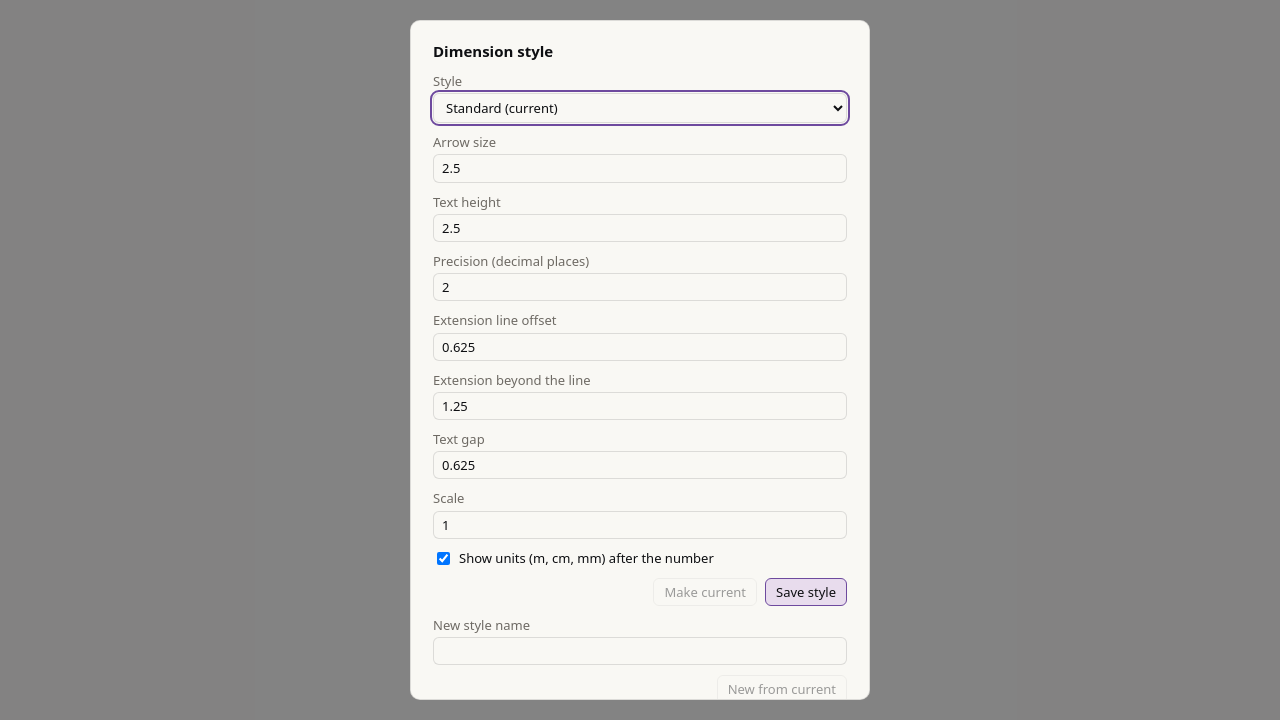
Test: creates a style from the current one, sets the annotation scale, shows errors
In the field labelled "New style name": (640, 651) [433,637,847,665], type "QS-100"
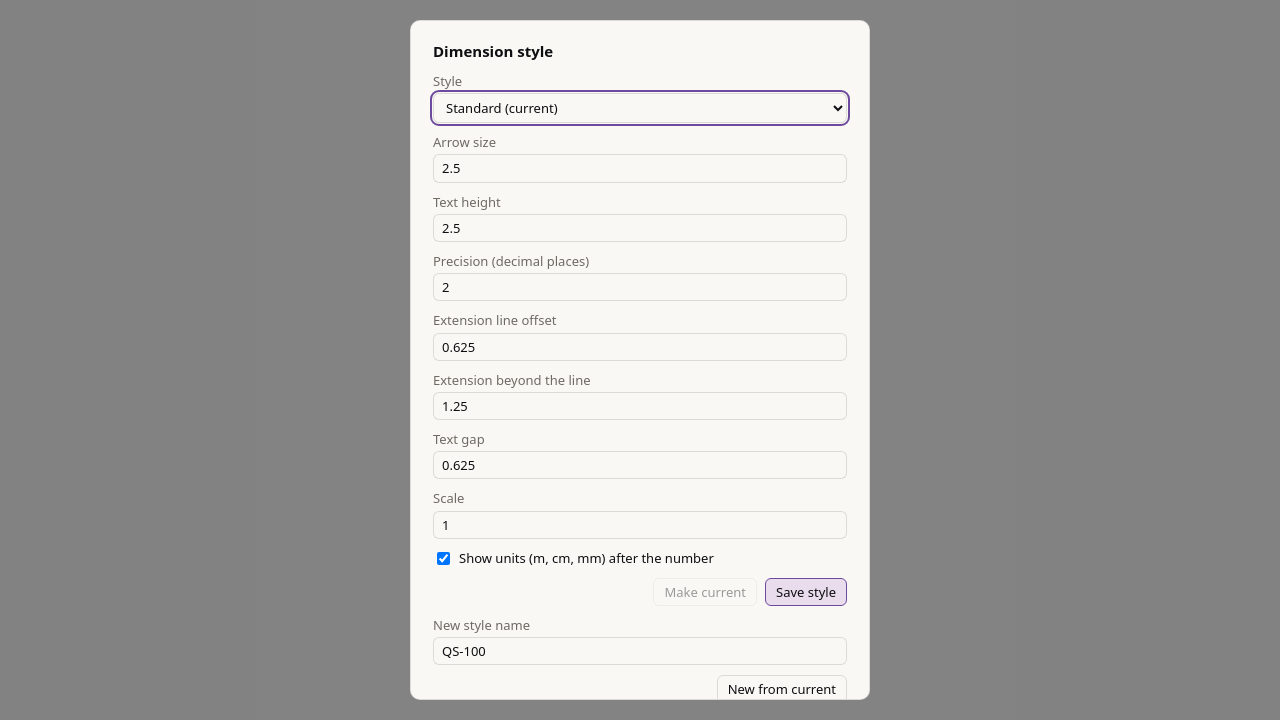
Click the button "New from current": (782, 690) [717,675,847,704]
(page scrolled)
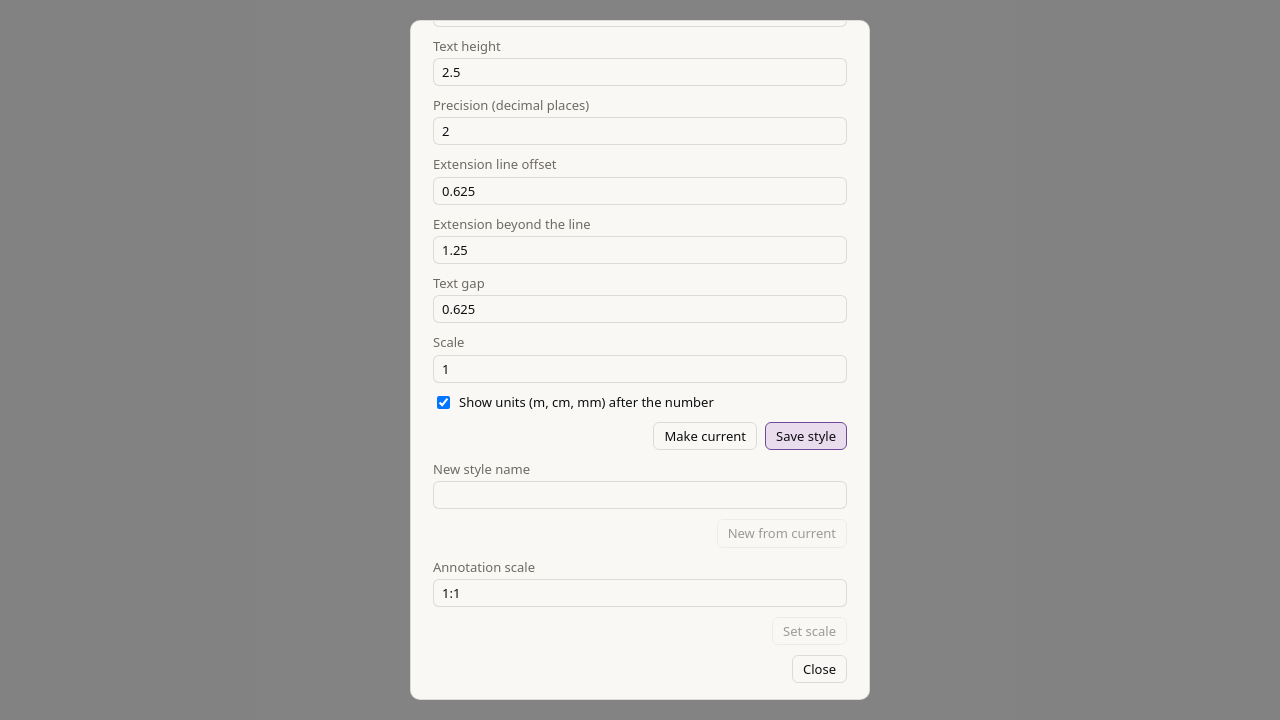
Replace the text in the field labelled "Annotation scale" with "big": (640, 593) [433,579,847,607]
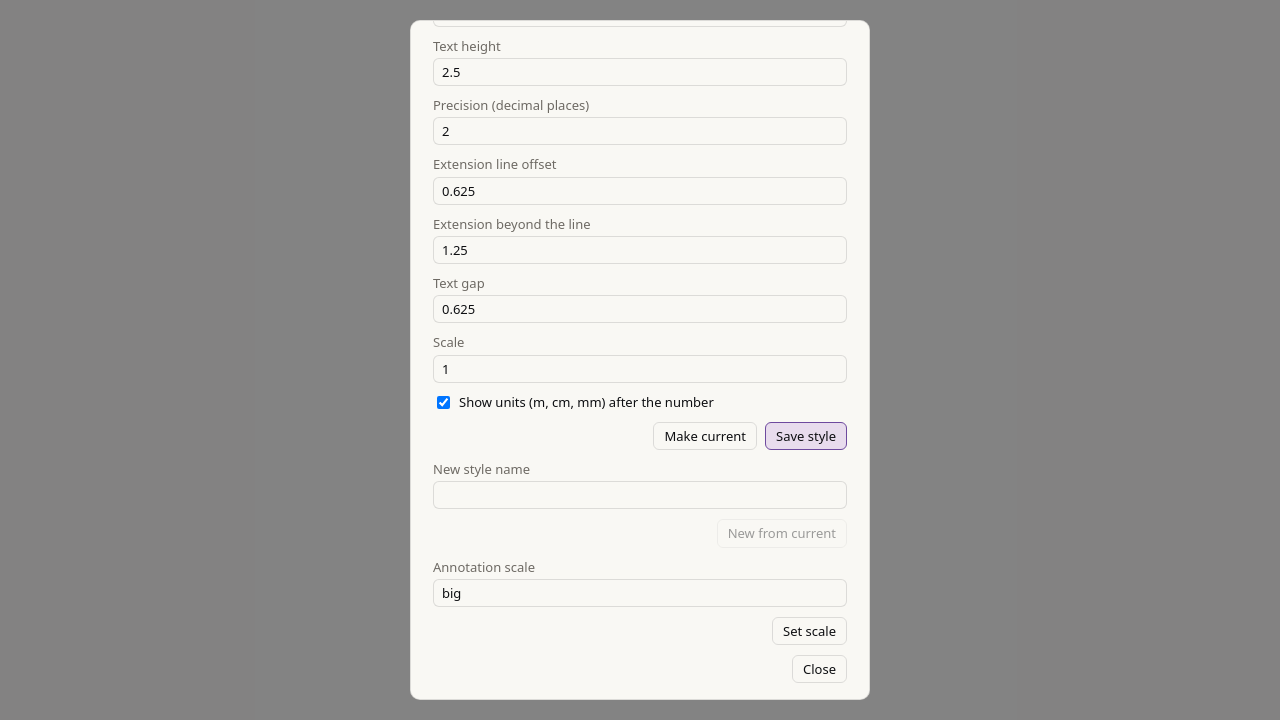
Click the button "Set scale": (810, 631) [772,617,847,645]
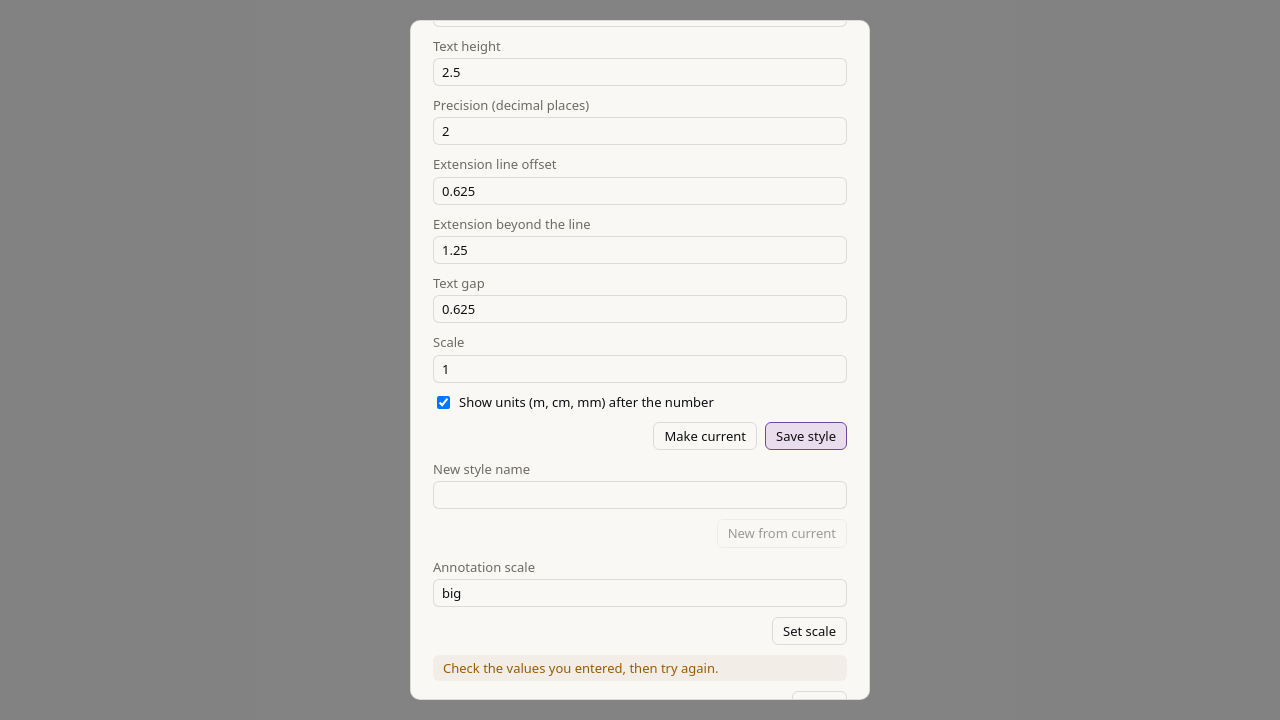
Expected: the message reads "Check the values you entered, then try again.", [443,659,718,677]
